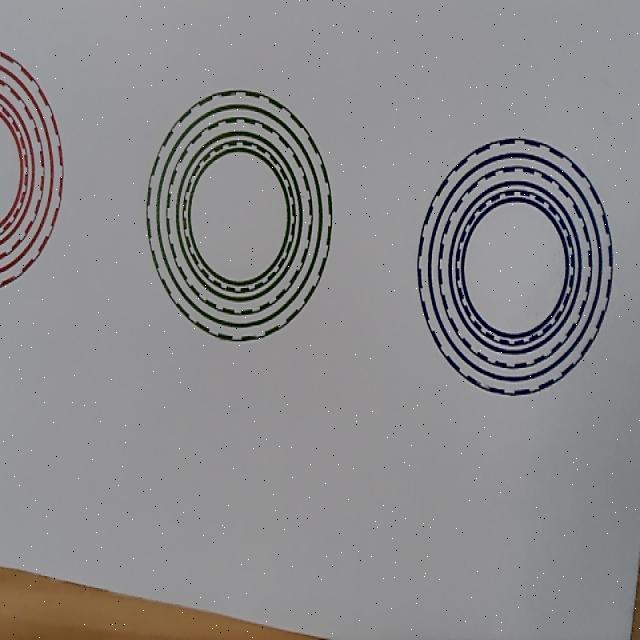b: (416, 138, 613, 397)
g: (146, 89, 332, 342)
